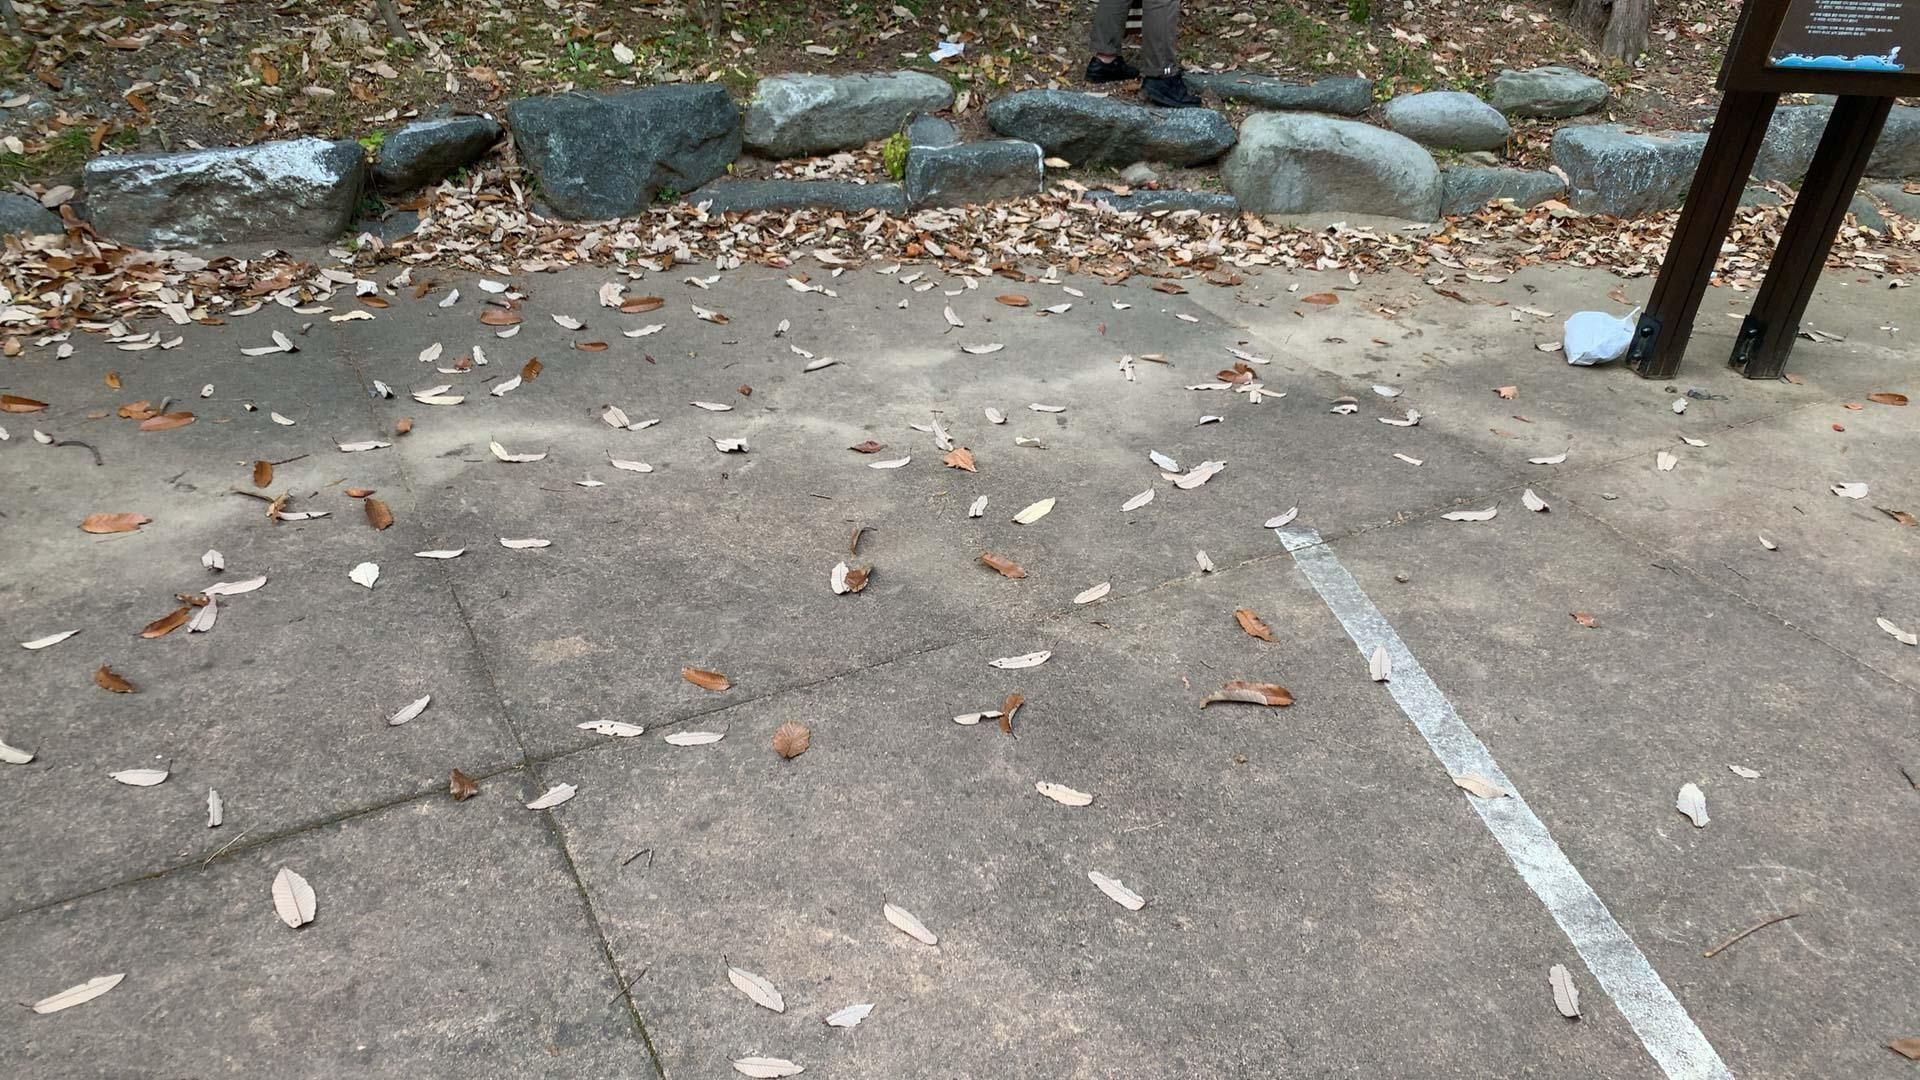white_bag: (1557, 301, 1644, 372)
